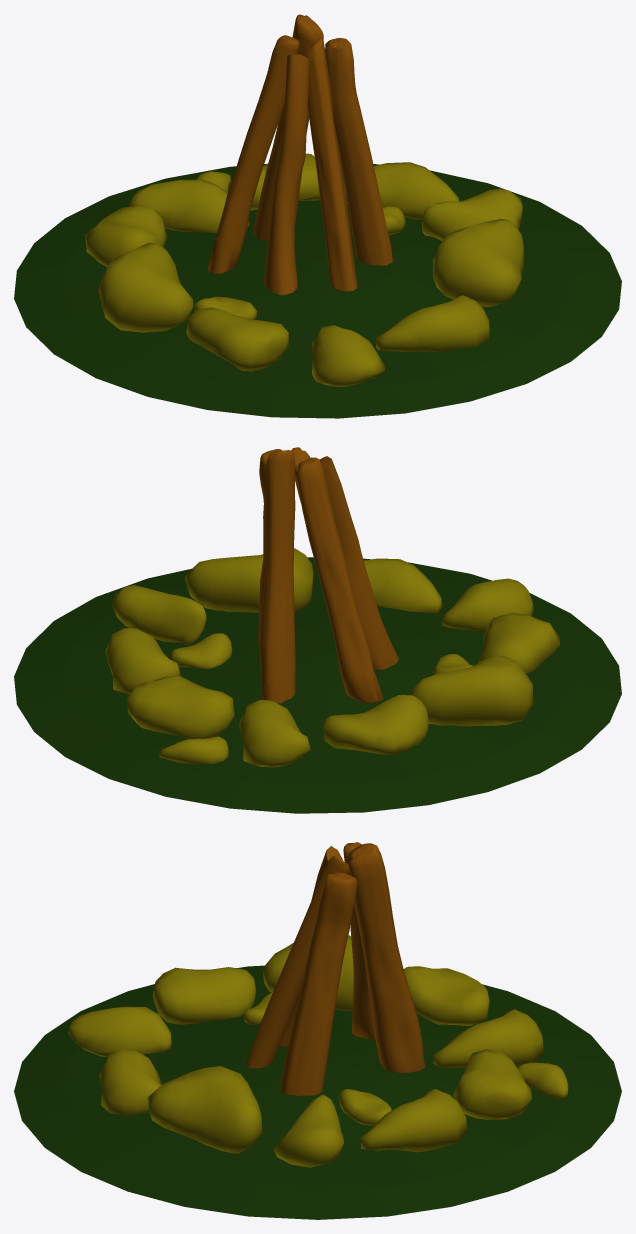
File: Ccampfire.fbx
The picture shows the model from 3 angles, top to bottom: view 1: azimuth 30°, elevation 25°; view 2: azimuth 150°, elevation 25°; view 3: azimuth 270°, elevation 25°; orthographic projection.
Parts seen in each view (by area): view 1: Circle001, Sphere004, Cylinder003; view 2: Circle001, Sphere004, Cylinder003; view 3: Circle001, Sphere004, Cylinder003.
Boxes of the visible parts, x1=… form: Circle001: x1=14, y1=164, x2=621, y2=418; Sphere004: x1=84, y1=153, x2=524, y2=386; Cylinder003: x1=207, y1=14, x2=392, y2=295; Circle001: x1=14, y1=557, x2=621, y2=813; Sphere004: x1=105, y1=548, x2=560, y2=767; Cylinder003: x1=258, y1=447, x2=398, y2=703; Circle001: x1=14, y1=965, x2=621, y2=1219; Sphere004: x1=68, y1=935, x2=568, y2=1167; Cylinder003: x1=246, y1=842, x2=425, y2=1095.
Bounding box in the file's own units: 5852 × 2673 × 5852.
